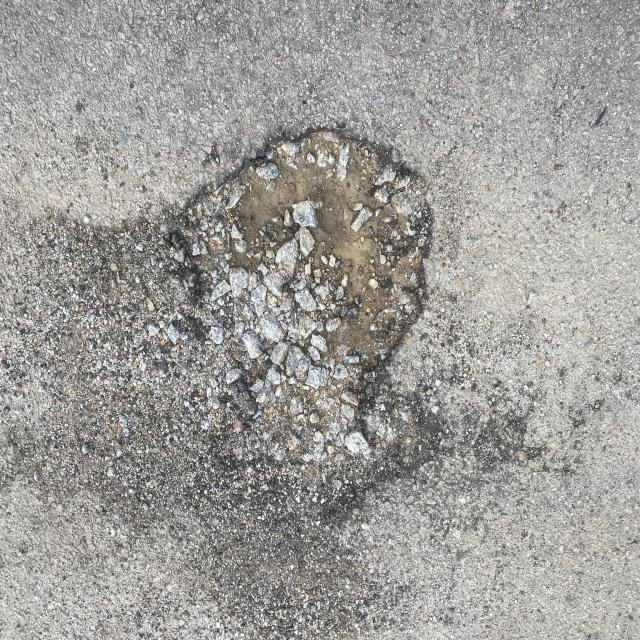pothole: (118, 88, 510, 501)
